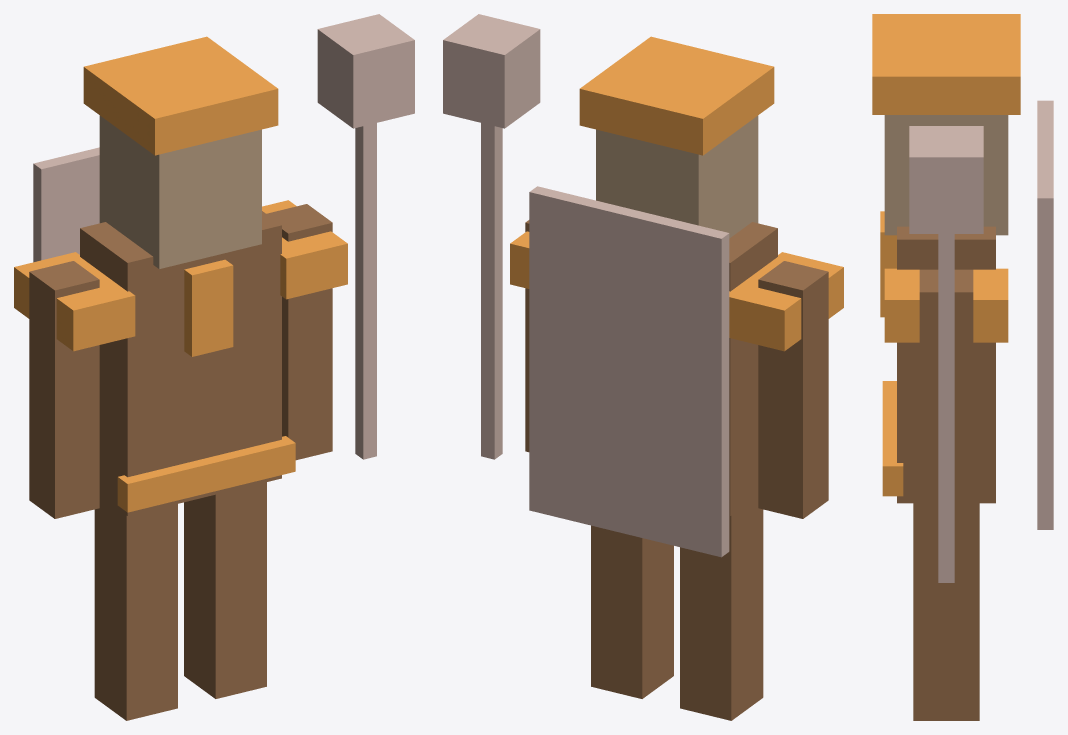
The model's file is 03_orin_cragwarden_marshal_under_resonance.glb.
3 renders of one model, left to right at view 1: azimuth 30°, elevation 25°; view 2: azimuth 150°, elevation 25°; view 3: azimuth 270°, elevation 25°, orthographic. The views are drawn at different scales.
Parts seen in each view (by area): view 1: Orin Cragwarden, Marshal under Resonance; view 2: Orin Cragwarden, Marshal under Resonance; view 3: Orin Cragwarden, Marshal under Resonance.
Part boxes in pixels (<box>): Orin Cragwarden, Marshal under Resonance: <box>14,14,414,720</box>; Orin Cragwarden, Marshal under Resonance: <box>443,14,843,720</box>; Orin Cragwarden, Marshal under Resonance: <box>872,14,1053,720</box>.
Bounding box in the file's own units: 0.9971 × 1.65 × 0.4239.
